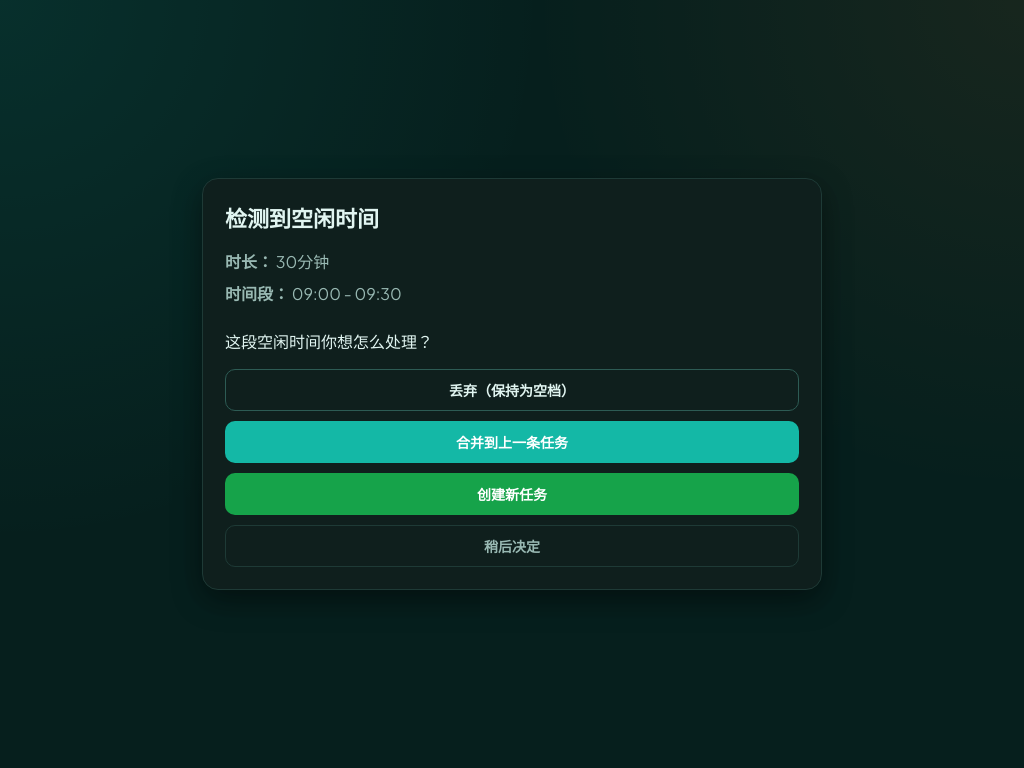
Scenario: IdlePrompt › disables buttons while loading
Click the button "丢弃（保持为空档）". click: (512, 390)
box: [225, 369, 799, 411]
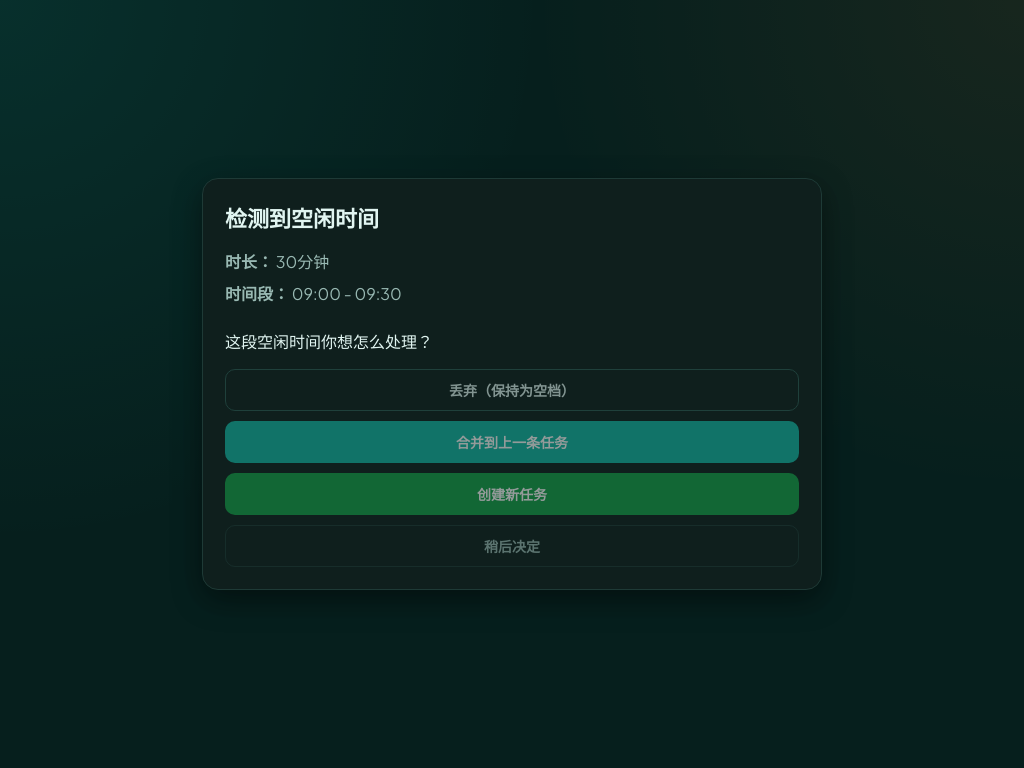
Result: the button "丢弃（保持为空档）" is disabled at [225, 369, 799, 411]
Result: the button "合并到上一条任务" is disabled at [225, 421, 799, 463]
Result: the button "创建新任务" is disabled at [225, 473, 799, 515]
